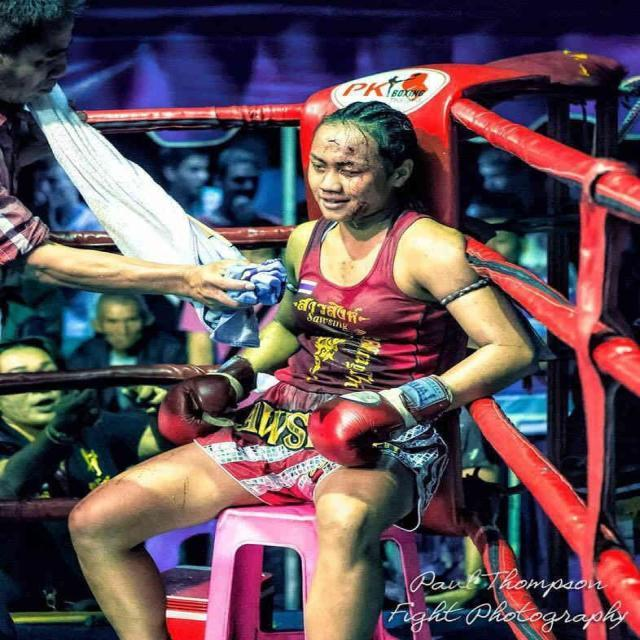flood: (298, 123, 410, 225)
